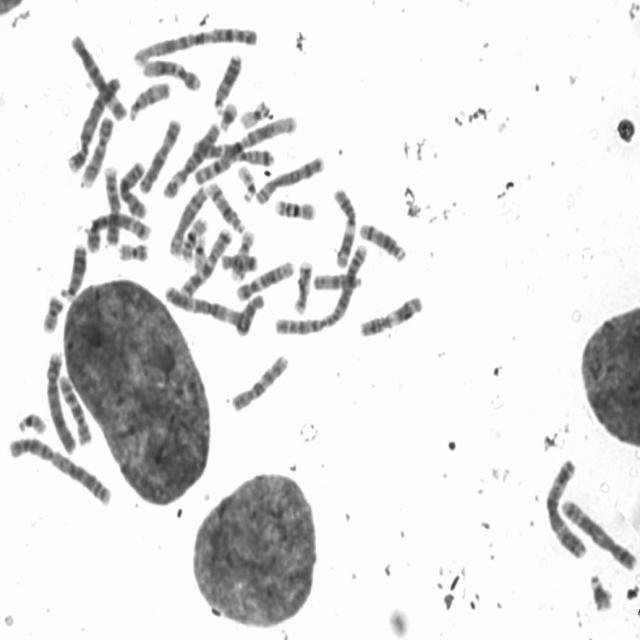A1: (192, 111, 298, 186), (130, 22, 260, 69)
A2: (270, 238, 368, 336), (5, 432, 114, 508)
A3: (542, 453, 590, 560), (162, 280, 250, 334)
B4: (64, 71, 124, 175), (41, 347, 79, 456)
B5: (558, 494, 639, 573), (84, 208, 155, 254)
C10: (227, 352, 290, 414), (56, 371, 94, 447)
C11: (356, 291, 424, 339), (330, 182, 358, 270)
C12: (233, 258, 296, 302), (139, 54, 204, 92)
C6: (67, 29, 128, 123), (161, 119, 222, 200)
C7: (178, 224, 233, 298), (190, 134, 278, 167)
C8: (252, 150, 326, 206), (167, 182, 210, 259)
C9: (79, 112, 116, 190), (100, 160, 122, 246)
D13: (211, 47, 245, 115), (56, 238, 88, 300)
D14: (354, 216, 408, 263), (206, 178, 247, 234)
D15: (125, 76, 172, 122), (310, 268, 365, 293)
E16: (178, 213, 209, 263), (271, 194, 318, 222)
E17: (228, 227, 257, 282), (291, 256, 313, 314)
E18: (234, 289, 268, 337), (219, 249, 260, 273)
F19: (236, 96, 271, 130), (190, 230, 208, 272)
F20: (38, 290, 65, 334), (114, 236, 150, 262)
G21: (586, 568, 615, 613), (216, 97, 238, 133)
G22: (235, 160, 258, 203), (14, 408, 48, 435)
X: (136, 113, 184, 196), (116, 156, 149, 220)
